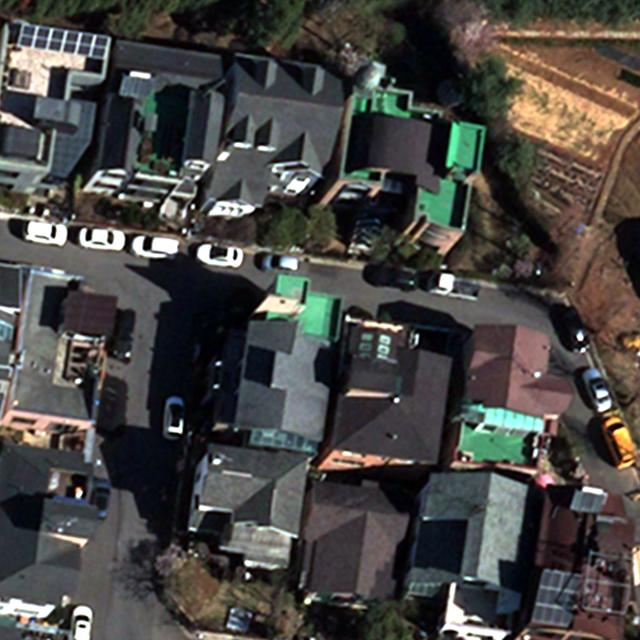solarpanel: (15, 21, 111, 62), (530, 562, 580, 626), (569, 484, 611, 519)
